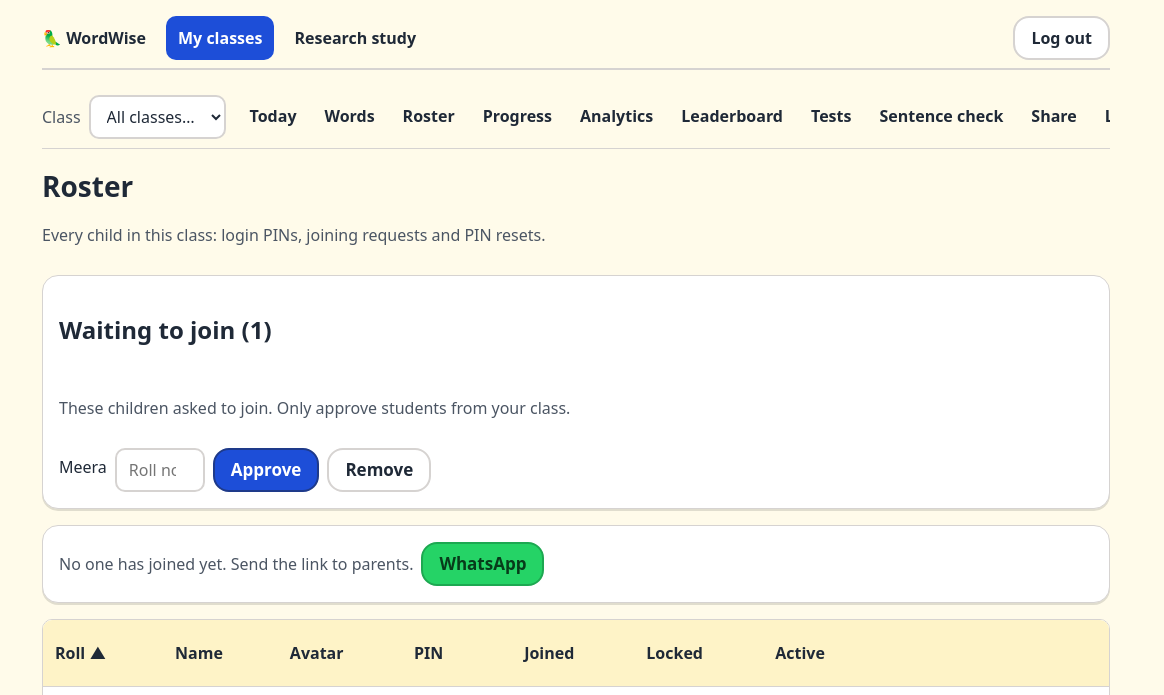
Test case: Roster: Waiting to join › shows a clear message when the roll number is taken
Expected: the heading "Waiting to join (1)" is shown, [59,313,272,346]
Click the button "Approve" at (266, 470), box [213,448,319,492]
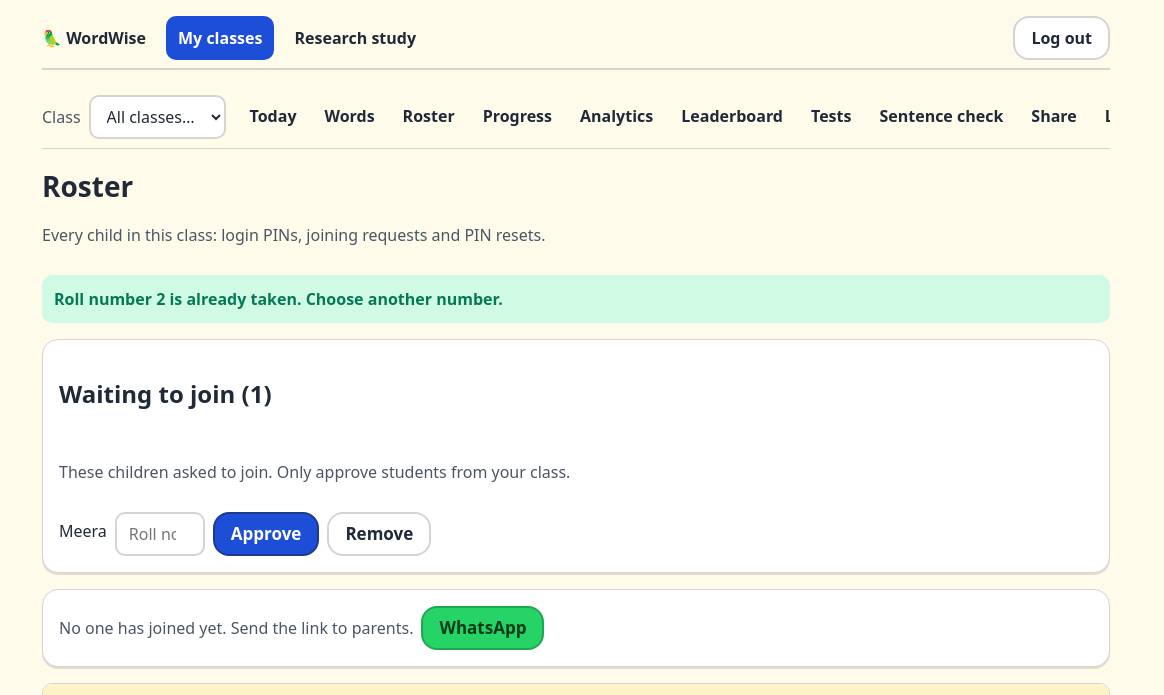
Expected: the heading "Waiting to join (1)" is shown, [59,377,272,410]
Result: the text "Roll number 2 is already taken. Choose another number." is shown at [42,275,1110,323]
